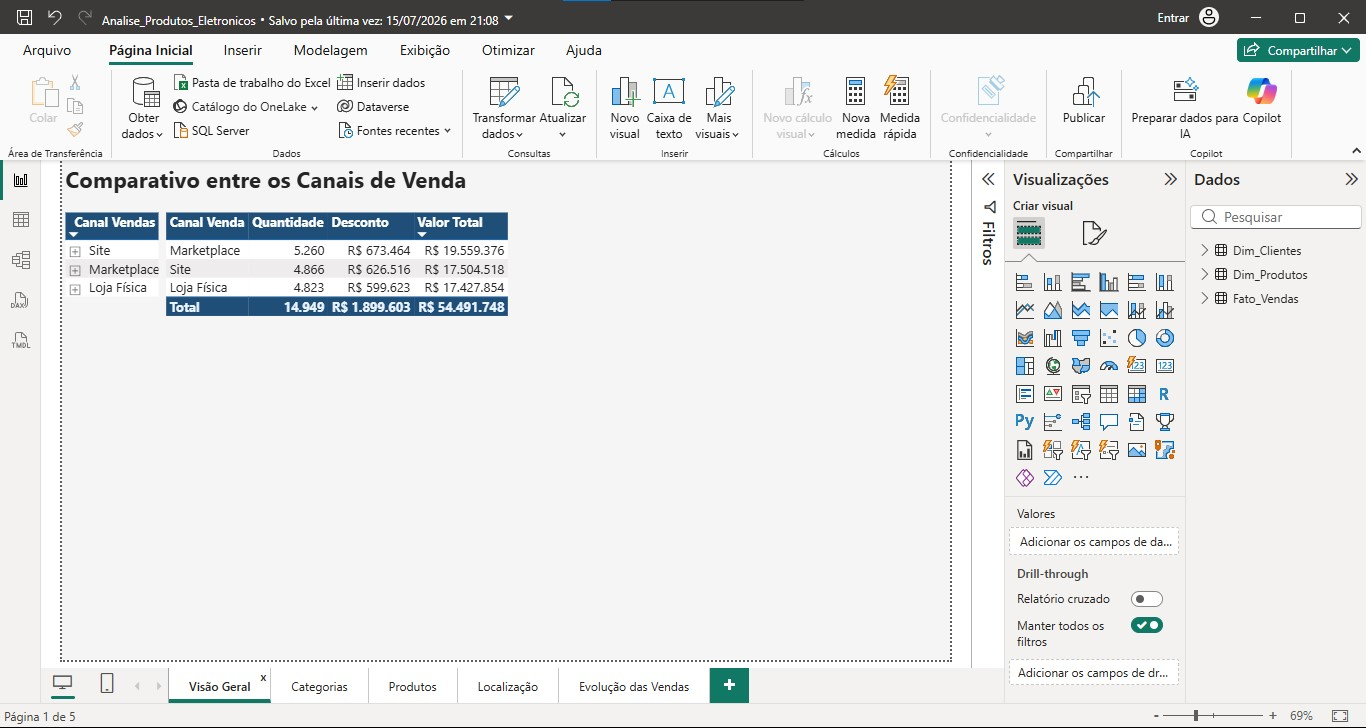

The page's visual inventory and layout, read from the dashboard file:
{"tool":"powerbi","page":{"name":"Visão Geral","canvas":[1280,720],"ordinal":0},"visuals":[{"type":"pivotTable","fields":{"Rows":["Fato_Vendas.Canal_Venda","Fato_Vendas.Data_Venda.Variation.Hierarquia de datas.Ano","Fato_Vendas.Data_Venda.Variation.Hierarquia de datas.Trimestre","Fato_Vendas.Data_Venda.Variation.Hierarquia de datas.Mês","Fato_Vendas.Data_Venda.Variation.Hierarquia de datas.Dia"]},"box":[0,69.7,153.5,125.3],"z":0},{"type":"tableEx","fields":{"Values":["Fato_Vendas.Canal_Venda","Sum(Fato_Vendas.Quantidade)","Sum(Fato_Vendas.Desconto)","Sum(Fato_Vendas.Valor_Total)"]},"box":[123.6,70,493.6,162.7],"z":1000},{"type":"textbox","box":[0,0,588.9,69.7],"z":2000}]}

Visuals, with their boxes on the page's 1280x720 design canvas (x1, y1, x2, y2). These are canvas units, not pixel positions in the 1366x728 screenshot, which may show the page scaled, cropped or inside an application window:
pivotTable - Fato_Vendas.Canal_Venda x Fato_Vendas.Data_Venda.Variation.Hierarquia de datas.Ano: [0,70,154,195]
tableEx - Fato_Vendas.Canal_Venda x Sum(Fato_Vendas.Quantidade): [124,70,617,233]
textbox: [0,0,589,70]
